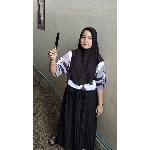Pisau: (49, 28, 66, 56)
